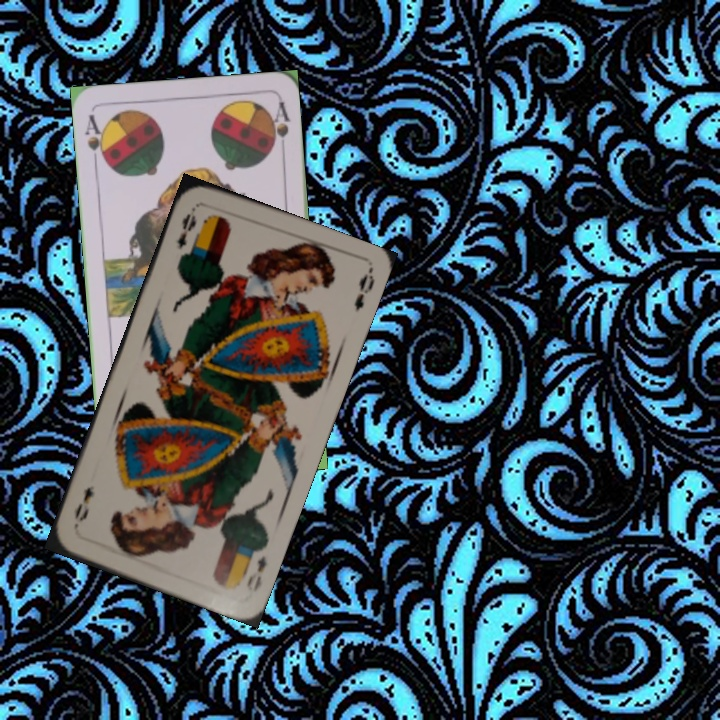EO: (242, 552, 270, 595), (173, 209, 199, 252)
SA: (80, 110, 110, 169)
